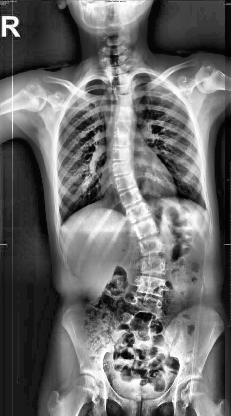Vertebrae: (139, 274, 169, 298), (133, 296, 163, 318), (135, 220, 161, 240), (125, 203, 151, 223), (119, 188, 144, 208), (140, 238, 164, 256), (142, 258, 168, 274), (109, 146, 135, 162), (116, 174, 139, 192), (110, 162, 134, 178), (114, 107, 136, 122), (113, 134, 135, 148), (114, 95, 138, 107), (114, 121, 134, 135), (110, 74, 132, 86), (113, 83, 132, 94)
